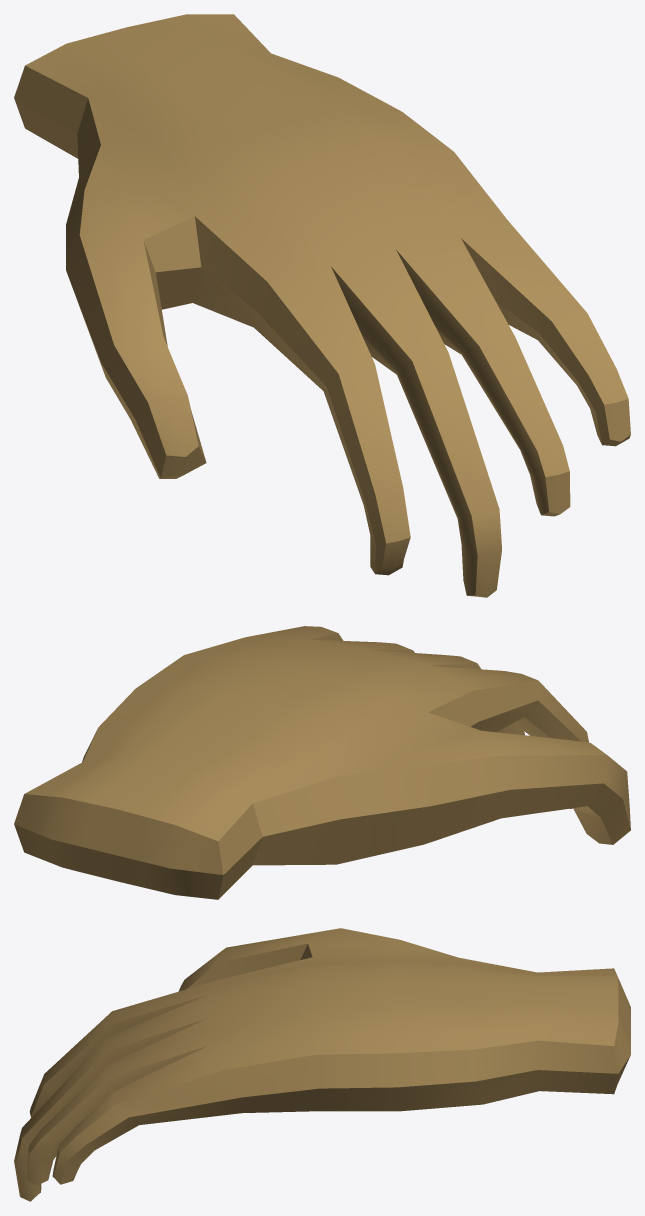
File: Hand modeling.FBX
The picture shows the model from 3 angles, top to bottom: view 1: azimuth 30°, elevation 25°; view 2: azimuth 150°, elevation 25°; view 3: azimuth 270°, elevation 25°; orthographic projection. The views are drawn at different scales.
Visible parts, largest first — view 1: Box001; view 2: Box001; view 3: Box001.
Boxes of the visible parts, bbox=[...] form: Box001: bbox=[14, 14, 630, 597]; Box001: bbox=[14, 626, 630, 899]; Box001: bbox=[14, 928, 630, 1201].
Size of the model in its own units: 71.35 by 46.95 by 119.
